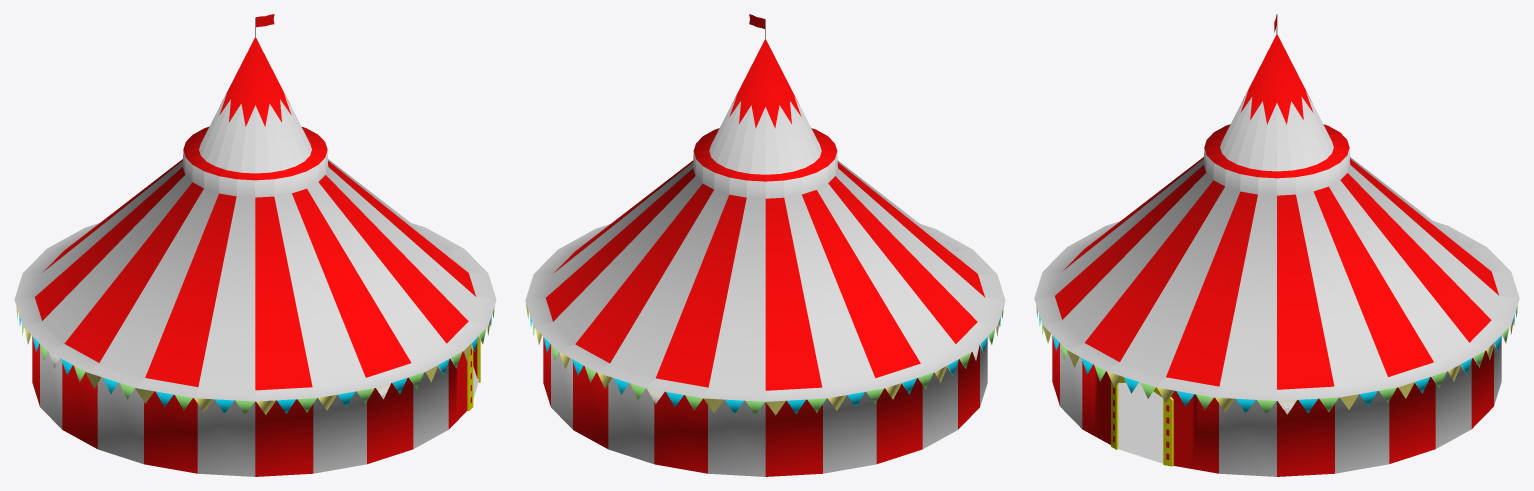
File: Circus_Tent.fbx
3 renders of one model, left to right at view 1: azimuth 30°, elevation 25°; view 2: azimuth 150°, elevation 25°; view 3: azimuth 270°, elevation 25°, orthographic.
Visible parts, largest first — view 1: Cylinder; view 2: Cylinder; view 3: Cylinder.
Part boxes in pixels (x1=…): Cylinder: x1=14, y1=14, x2=496, y2=476; Cylinder: x1=525, y1=14, x2=1005, y2=476; Cylinder: x1=1034, y1=14, x2=1519, y2=476.
Size of the model in its own units: 1081 by 904 by 1081.
